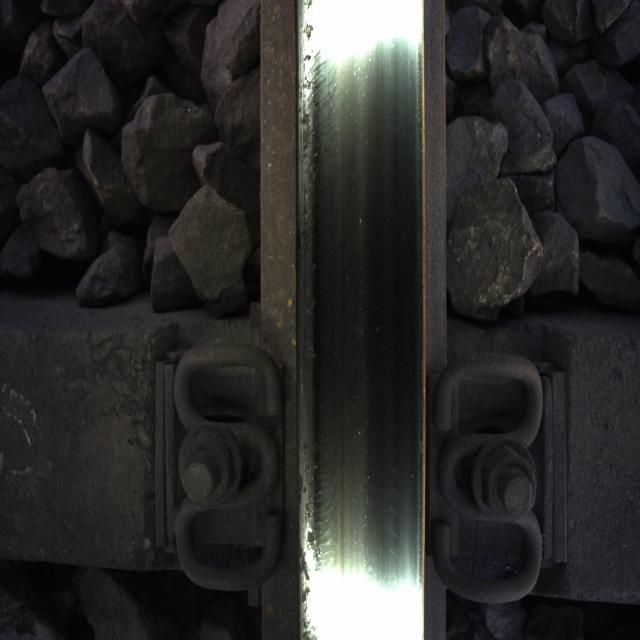normal: (300, 1, 398, 581)
